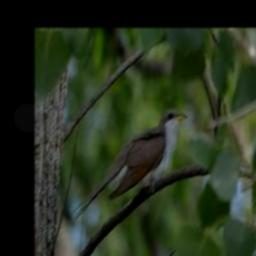Cuckoo: (71, 107, 188, 221)
